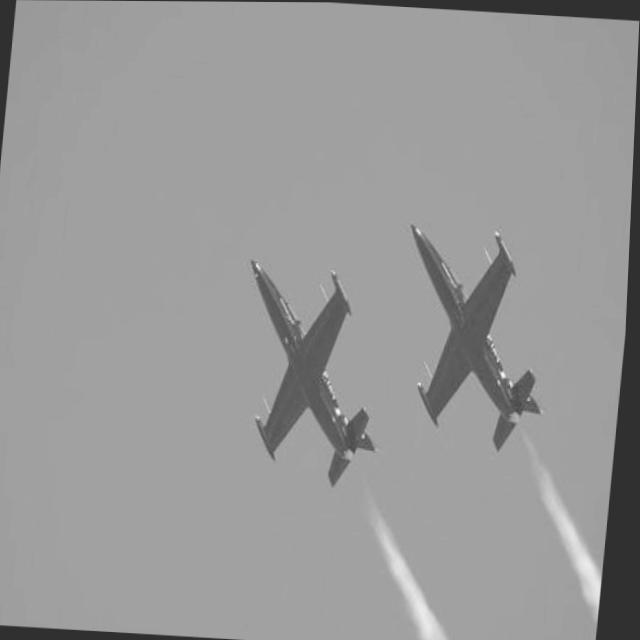aeroplane: (392, 221, 566, 456), (232, 253, 401, 491)
